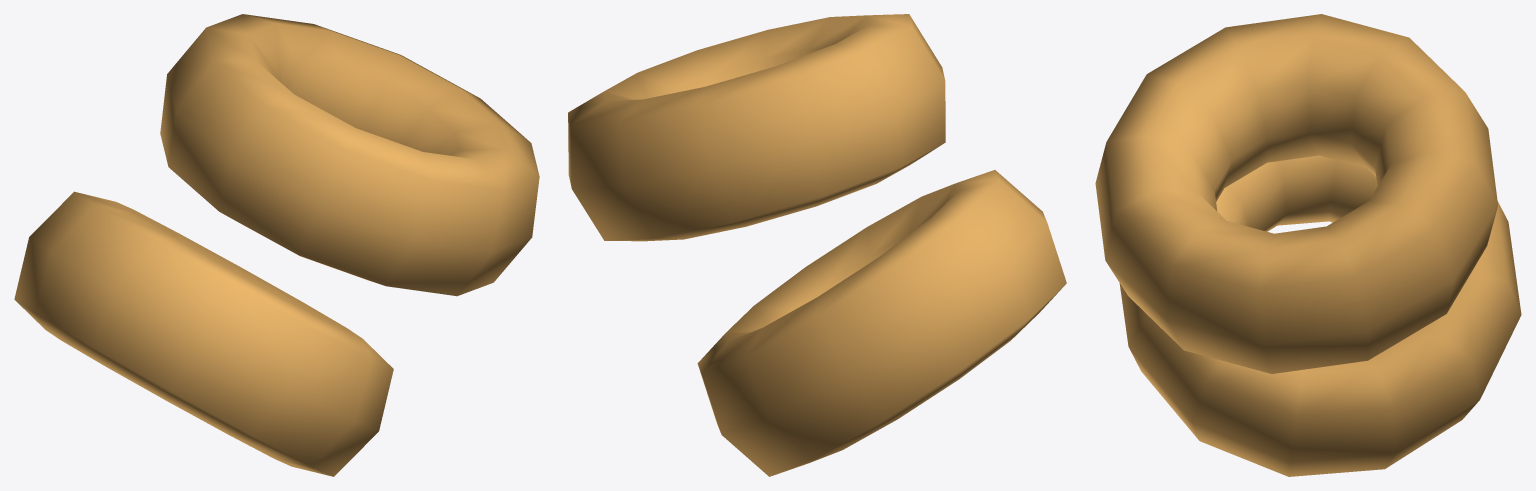
Rendered from Earring_14.fbx.
3 views of the same model, side by side, from view 1: azimuth 30°, elevation 25°; view 2: azimuth 150°, elevation 25°; view 3: azimuth 270°, elevation 25° (orthographic). The views are drawn at different scales.
Visible parts, largest first — view 1: Earring_14; view 2: Earring_14; view 3: Earring_14.
Boxes of the visible parts, bbox=[...] form: Earring_14: bbox=[14, 14, 539, 476]; Earring_14: bbox=[568, 14, 1066, 476]; Earring_14: bbox=[1095, 14, 1521, 476].
Bounding box in the file's own units: 11.92 × 10.23 × 9.38.
